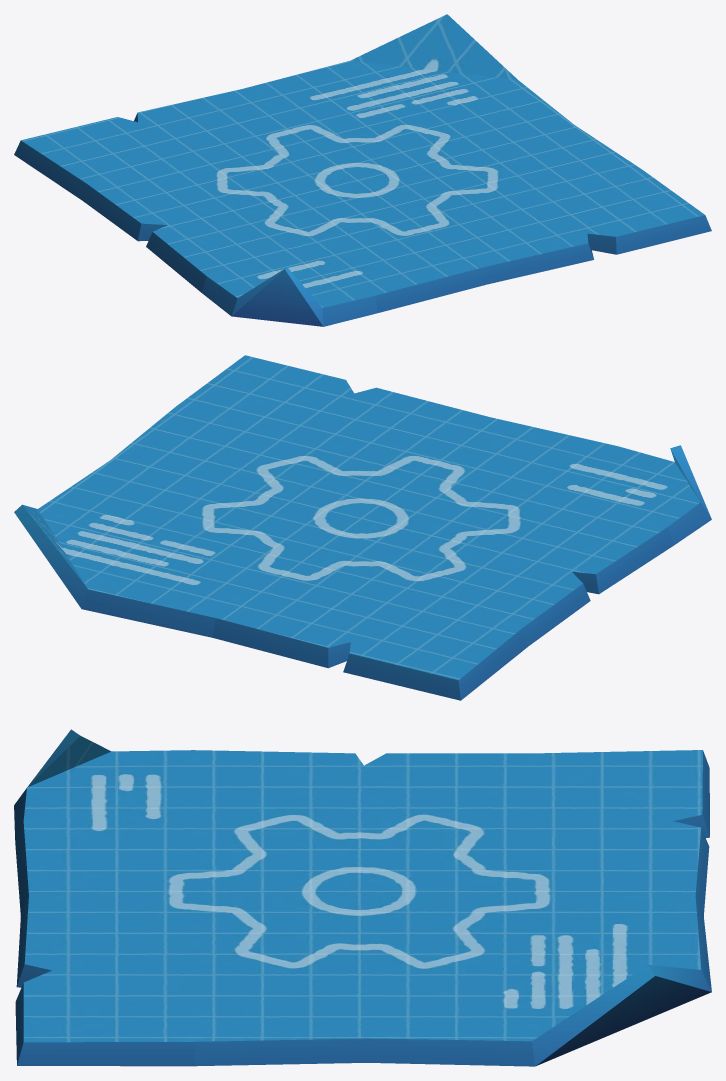
File: blueprint.gltf
3 views of the same model, one above another, from view 1: azimuth 30°, elevation 25°; view 2: azimuth 150°, elevation 25°; view 3: azimuth 270°, elevation 25° (orthographic). The views are drawn at different scales.
Visible parts, largest first — view 1: blueprint; view 2: blueprint; view 3: blueprint.
Part boxes in pixels (bbox=[...]): blueprint: bbox=[14, 14, 711, 326]; blueprint: bbox=[14, 355, 711, 700]; blueprint: bbox=[14, 729, 711, 1066].
Size of the model in its own units: 1.49 by 0.1803 by 1.46.
2 materials, 2 textured.
